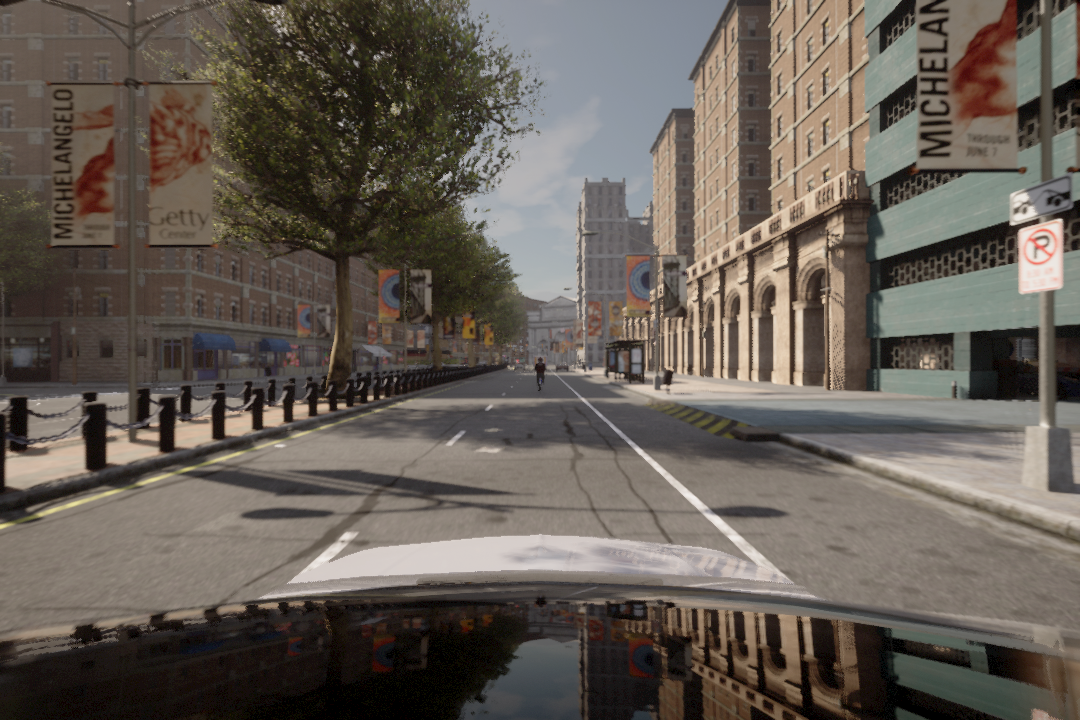TrafficSign_nstop: (1018, 226, 1066, 292)
